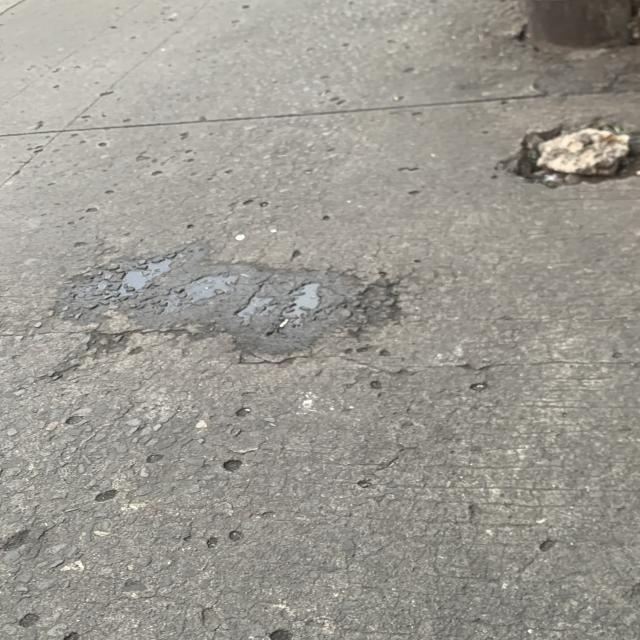pothole: (84, 228, 419, 394)
